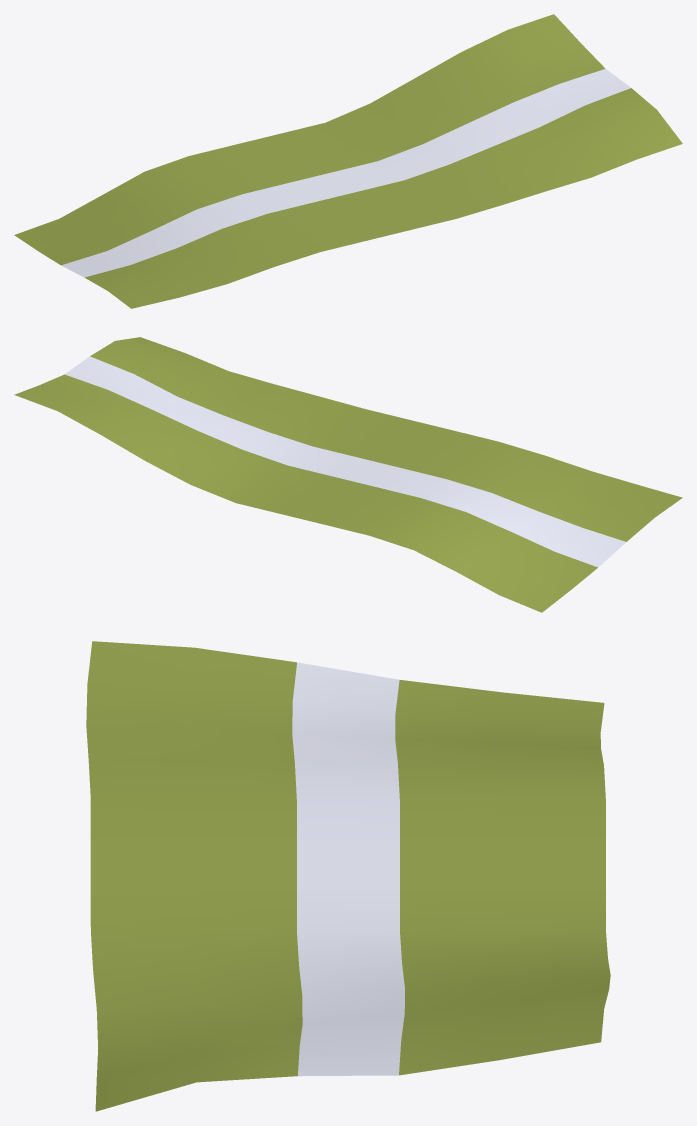
Rendered from ground.fbx.
3 renders of one model, top to bottom at view 1: azimuth 30°, elevation 25°; view 2: azimuth 150°, elevation 25°; view 3: azimuth 270°, elevation 25°, orthographic. The views are drawn at different scales.
Visible parts, largest first — view 1: ground; view 2: ground; view 3: ground.
Part boxes in pixels (x1,y1,x2,y2): ground: (14, 14, 682, 308); ground: (14, 337, 682, 612); ground: (86, 641, 610, 1111).
Size of the model in its own units: 24290 by 3786 by 10179.
